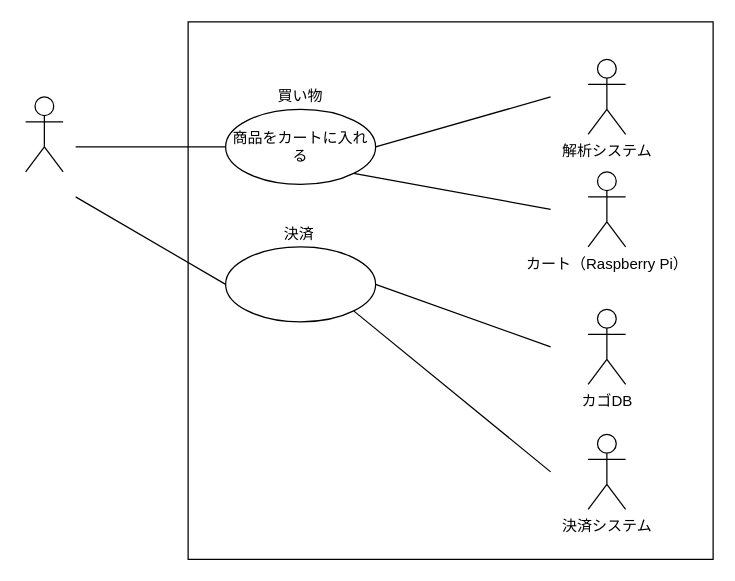
This 735x581 diagram has some shape labels left out. Here are the shapes that lost their labels. From the top down, the centre of each, then its label:
the point at 43,134: お客様
the point at 300,284: カートを返す
